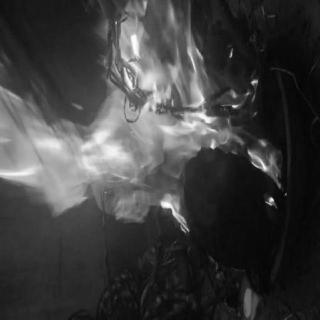Fire: (1, 5, 285, 241)
